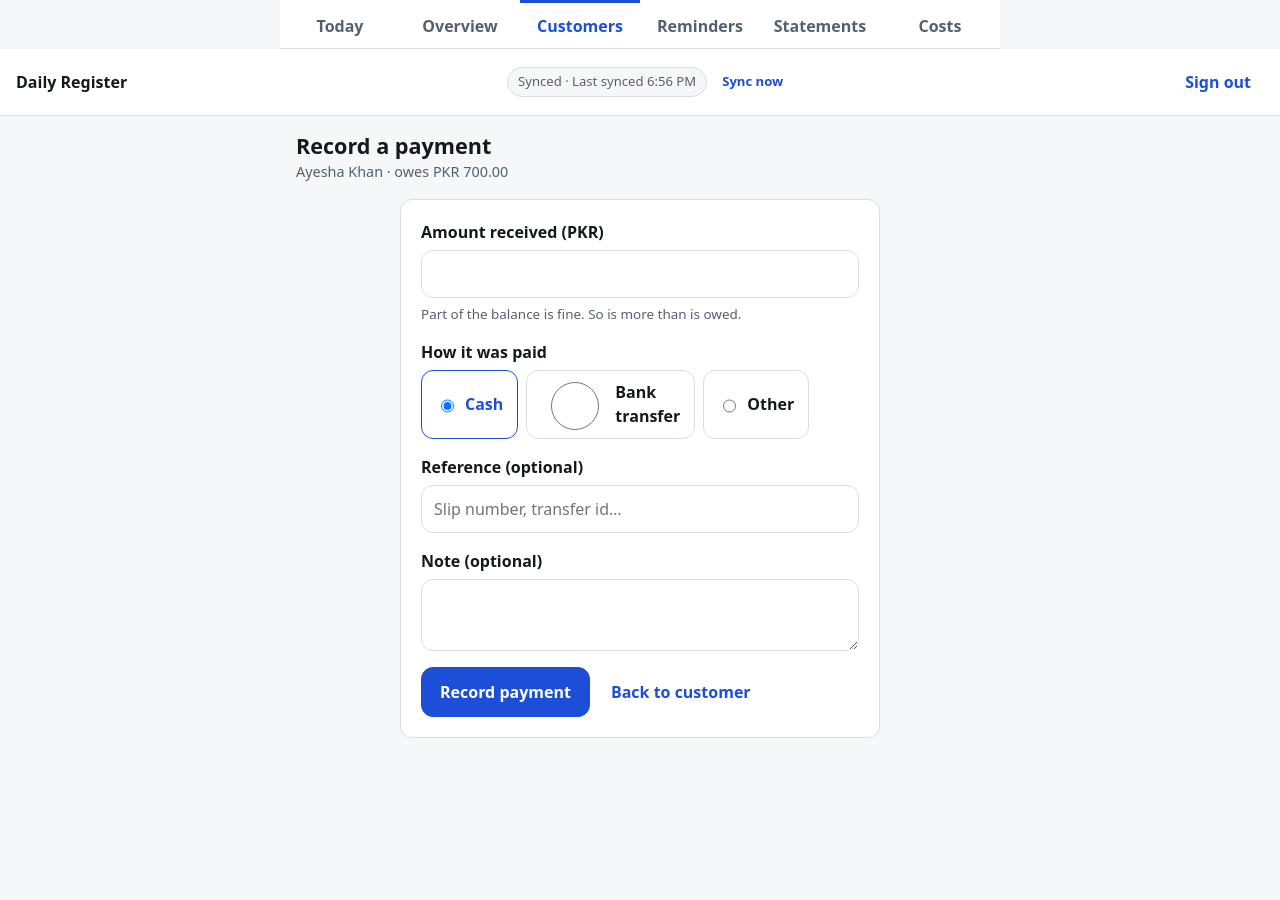
Test case: recording a payment › accepts a full payment and each of the three methods
expect the radio button labelled "Cash" is shown: met, box [441,382,454,430]
expect the radio button labelled "Bank transfer" is shown: met, box [546,382,604,430]
Type "700" into the field labelled "Amount received (PKR)".
click(640, 274); type("700")  # box [421,250,859,298]
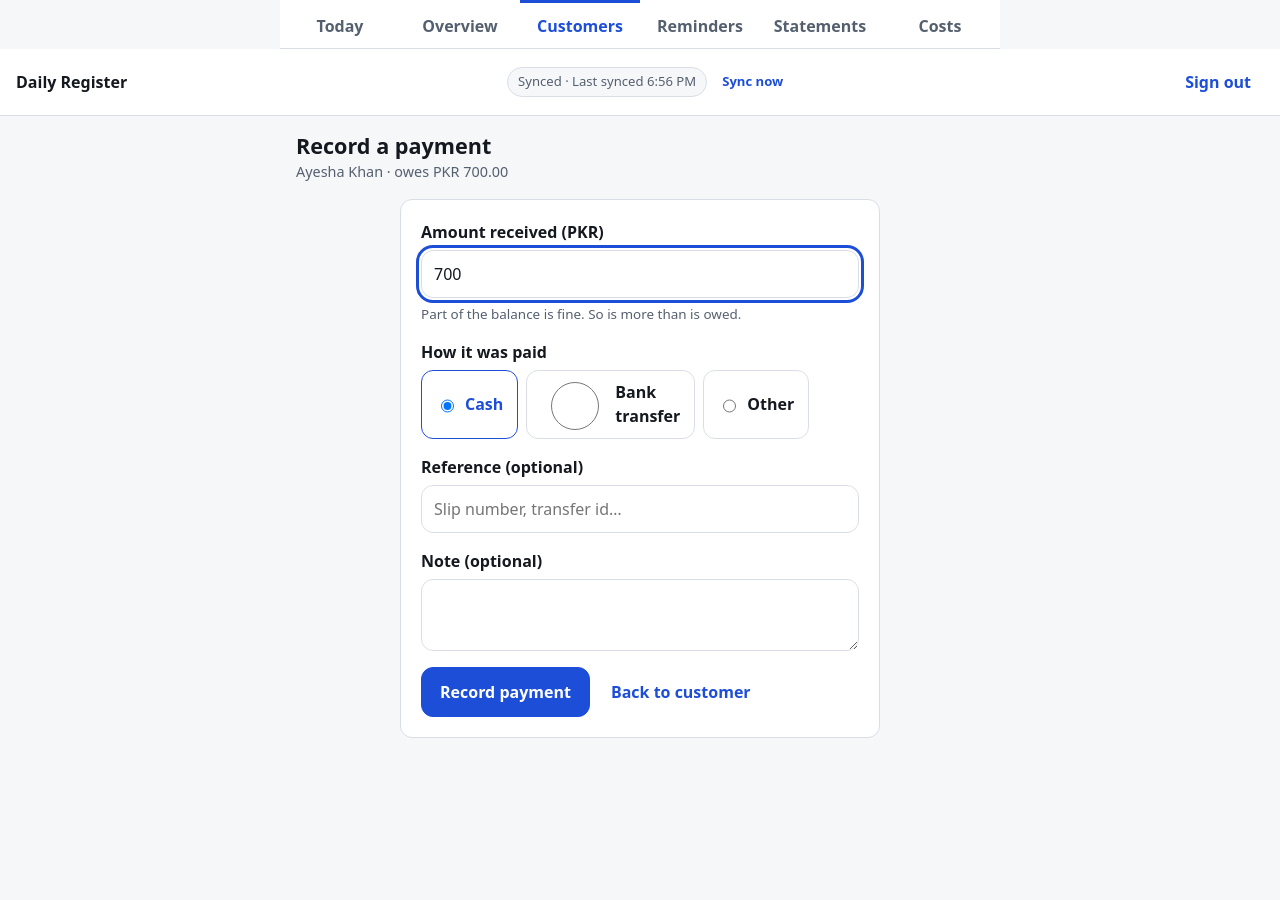
Click the radio button labelled "Bank transfer".
click(575, 406)  # box [546,382,604,430]
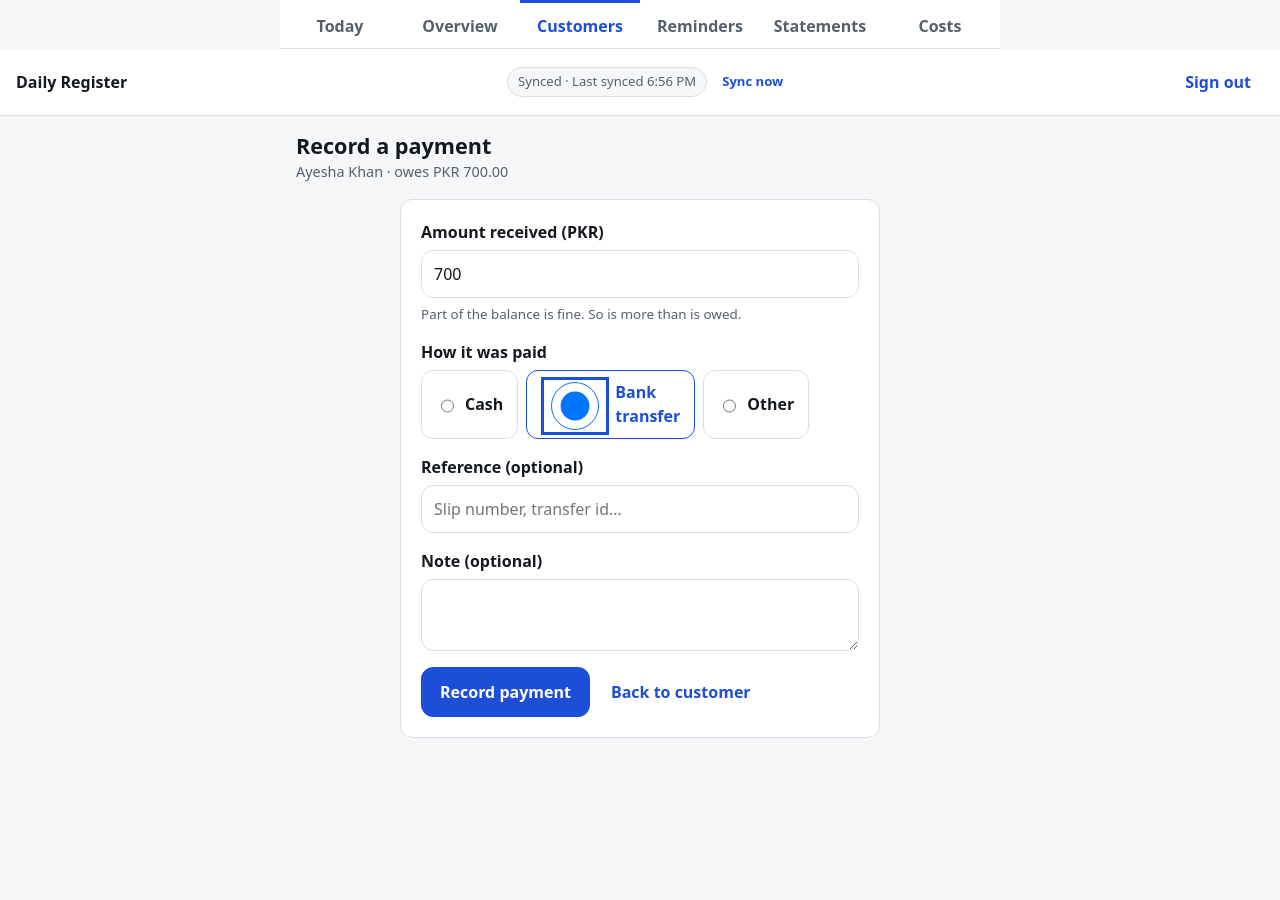
Click the button "Record payment".
click(505, 692)  # box [421,667,590,717]
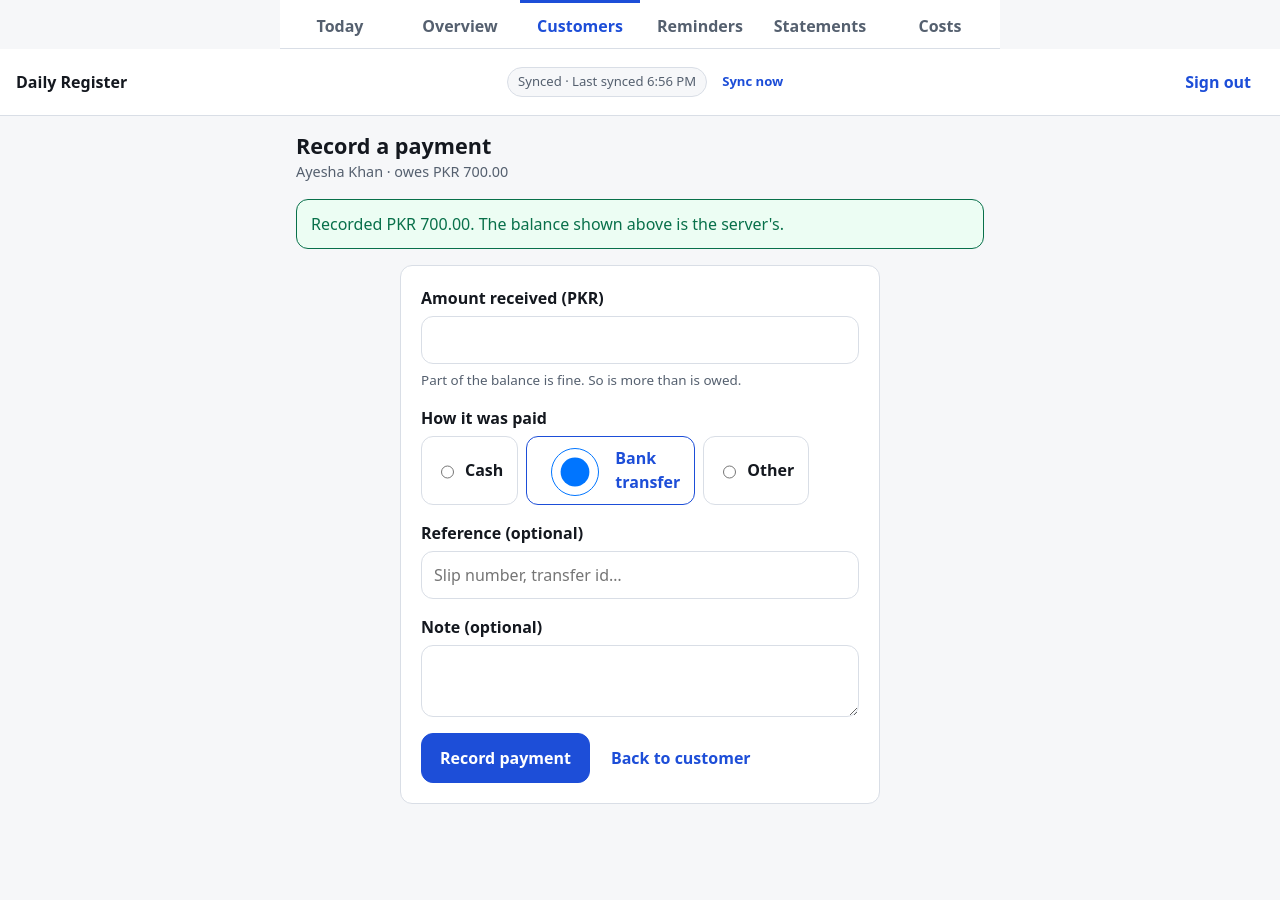
expect the text "Recorded PKR 700.00. The balance shown above is the server's." is shown: met, box [296,199,984,249]
